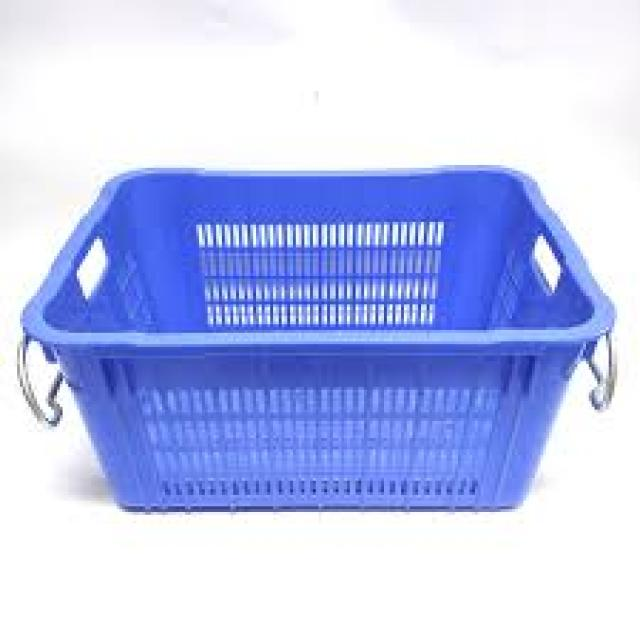basket: (23, 164, 620, 513)
